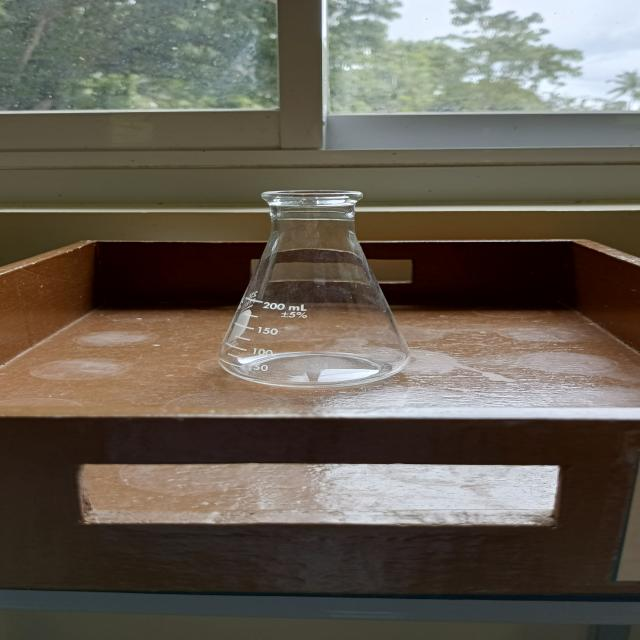erlenmeyer_flask: (205, 180, 420, 394)
